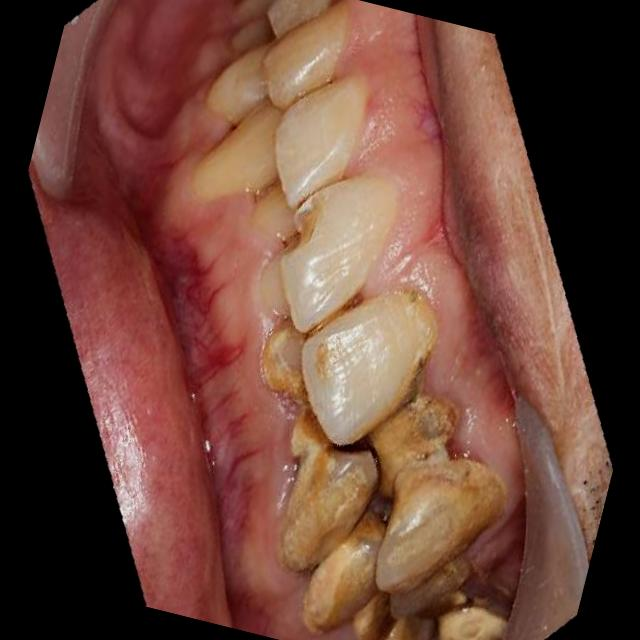calculus: (361, 446, 512, 607), (260, 448, 382, 570), (374, 376, 477, 479), (301, 534, 385, 636), (260, 337, 320, 398)
